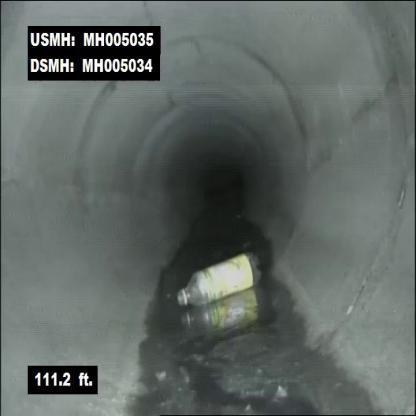crack: (309, 70, 398, 177), (141, 2, 156, 25)
